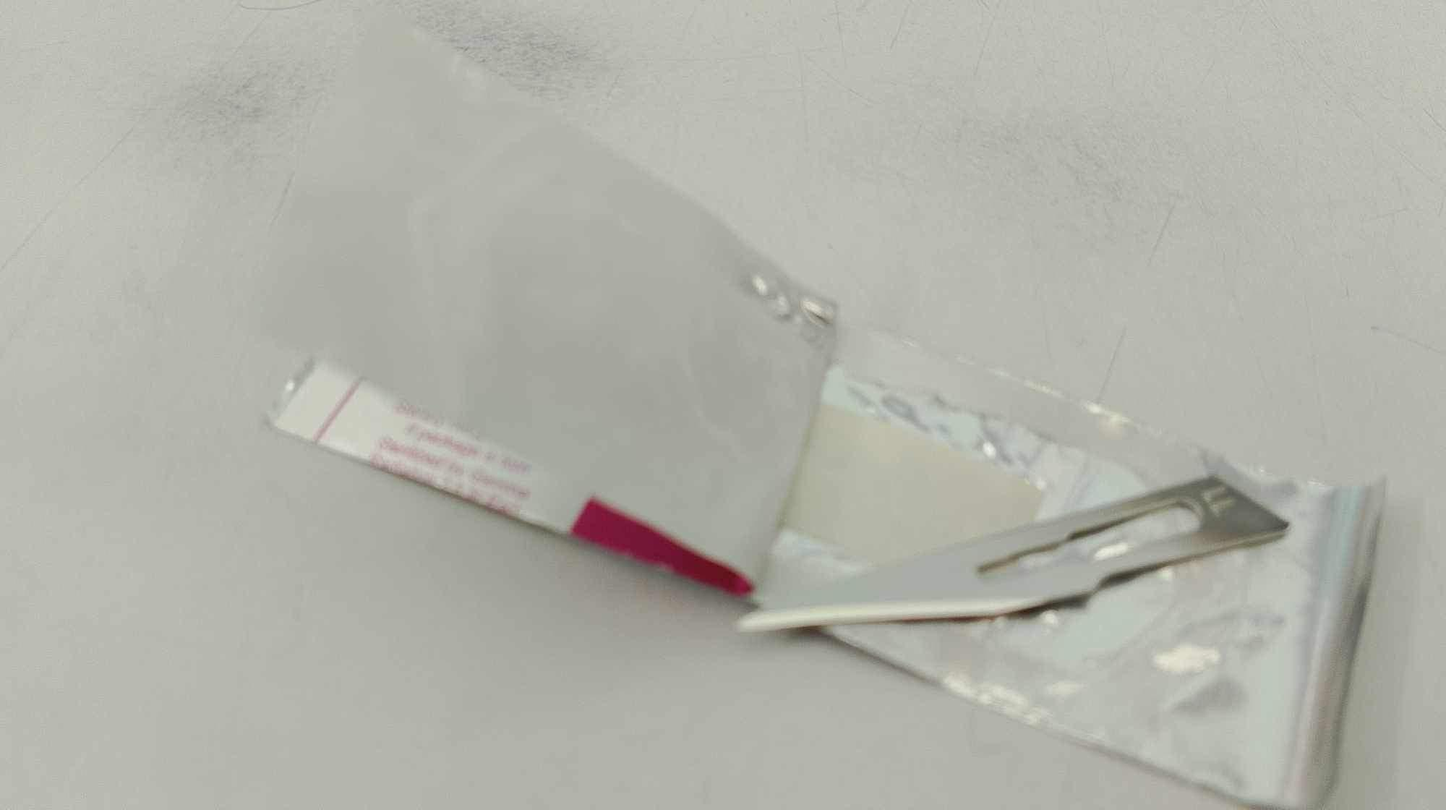General: (243, 9, 1388, 805)
Pathological: (737, 323, 1388, 806)
Sharps: (265, 352, 755, 601), (735, 472, 1291, 636)
